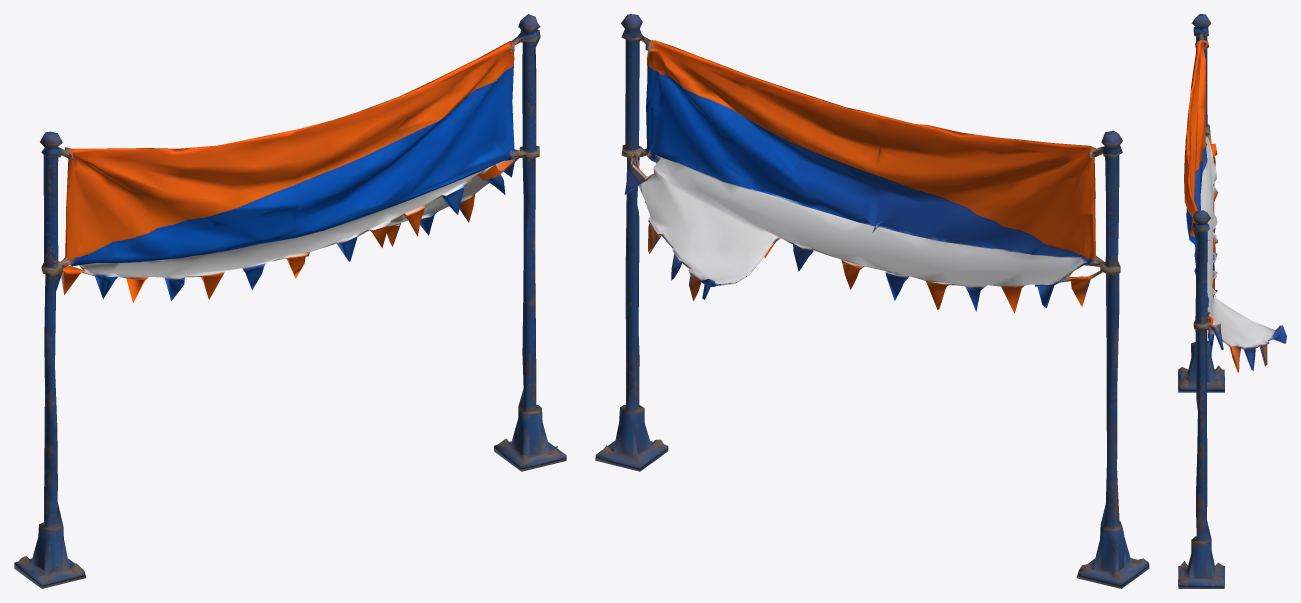
The model's file is banner.glb.
3 views of the same model, side by side, from view 1: azimuth 30°, elevation 25°; view 2: azimuth 150°, elevation 25°; view 3: azimuth 270°, elevation 25° (orthographic). The views are drawn at different scales.
Visible parts, largest first — view 1: tripo_node_a2a68dd1-1bf2-4ad7-be59-9315797c46a9; view 2: tripo_node_a2a68dd1-1bf2-4ad7-be59-9315797c46a9; view 3: tripo_node_a2a68dd1-1bf2-4ad7-be59-9315797c46a9.
Part boxes in pixels (x1,y1,x2,y2): tripo_node_a2a68dd1-1bf2-4ad7-be59-9315797c46a9: [14, 14, 566, 588]; tripo_node_a2a68dd1-1bf2-4ad7-be59-9315797c46a9: [595, 14, 1149, 588]; tripo_node_a2a68dd1-1bf2-4ad7-be59-9315797c46a9: [1178, 14, 1286, 588].
Size of the model in its own units: 1 by 0.8024 by 0.2145.
Materials: 1 (1 with a texture image).
